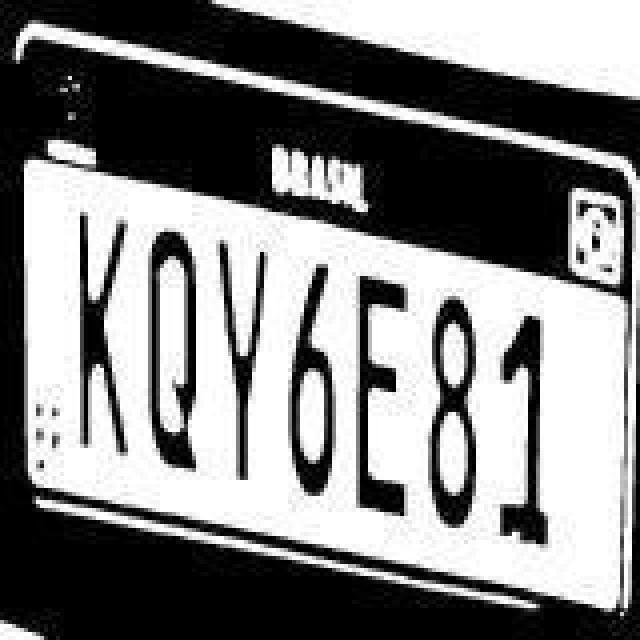1: (500, 308, 556, 556)
6: (284, 252, 340, 516)
8: (428, 290, 484, 542)
E: (356, 268, 412, 524)
K: (72, 210, 136, 462)
Q: (148, 226, 204, 486)
Y: (220, 236, 276, 500)
